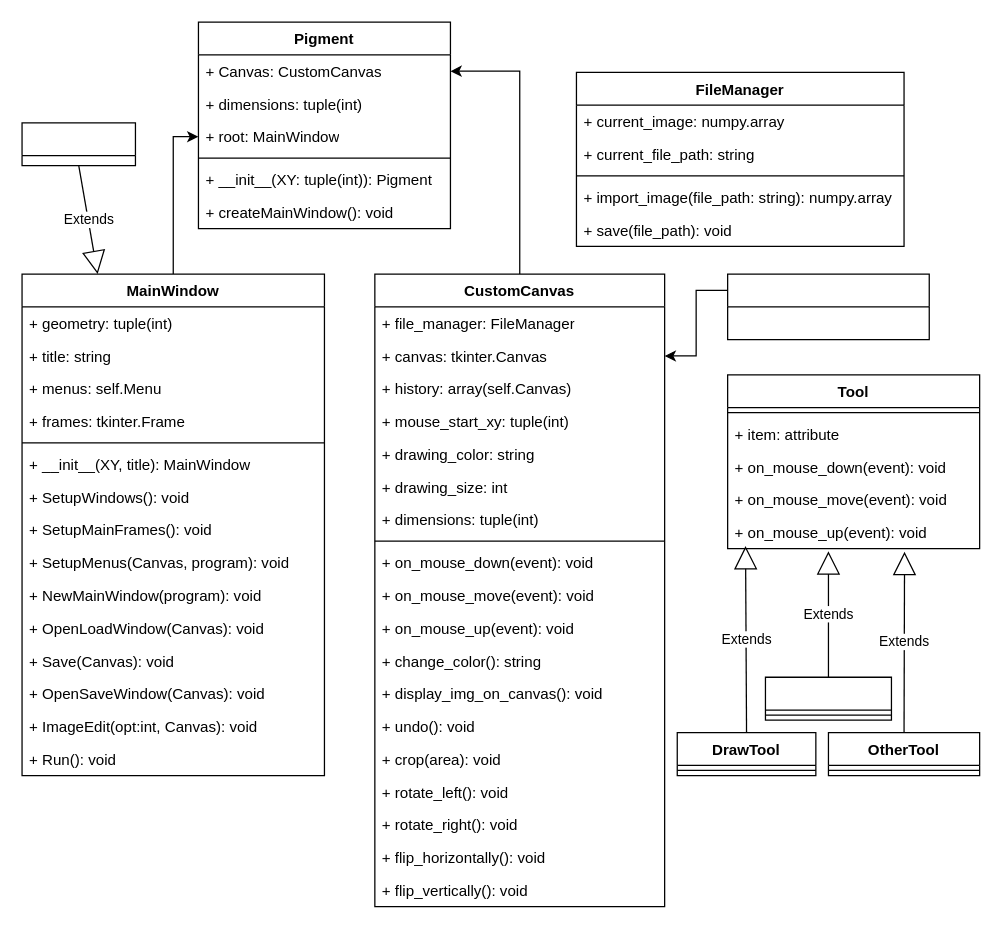
Some shapes in this 1002 by 932 pixel diagram are drawn without their labels. Each missing label, with the centre of its shape:
"EraseTool" goes at point (827, 698).
"tkinter.Canvas" goes at point (827, 306).
"tkinter.TK" goes at point (78, 144).
